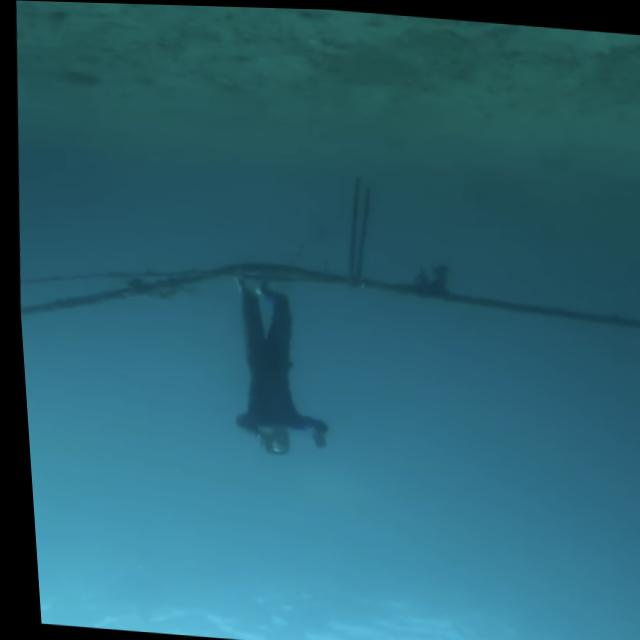human: (212, 266, 342, 472)
